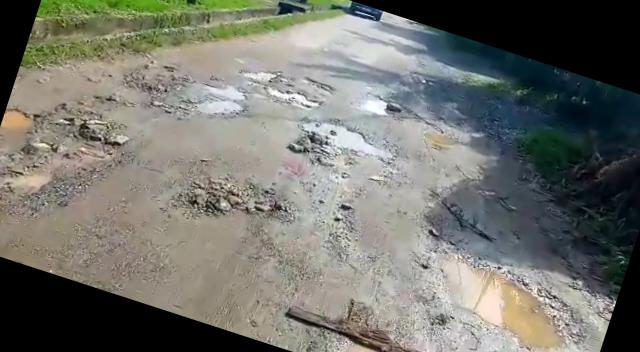pothole: (415, 243, 595, 352), (183, 162, 299, 240), (309, 115, 401, 164), (260, 82, 321, 113), (194, 92, 248, 126), (200, 77, 250, 107), (466, 129, 510, 163), (0, 104, 40, 140), (418, 124, 464, 154), (362, 94, 396, 119), (298, 74, 338, 95)
